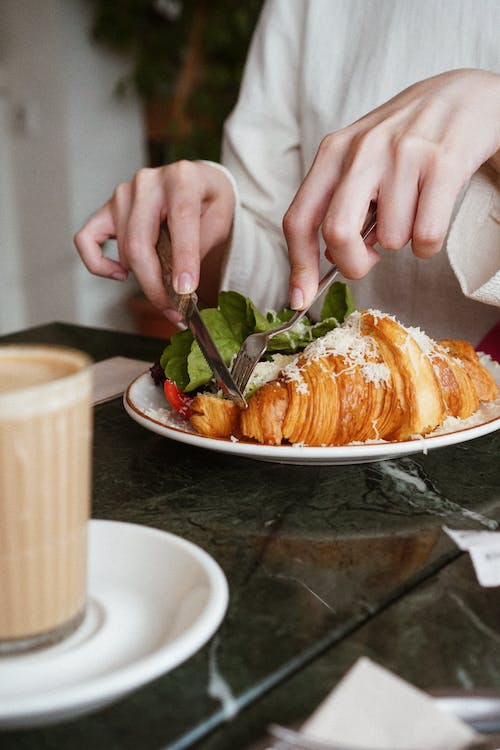knife: (153, 221, 250, 413)
